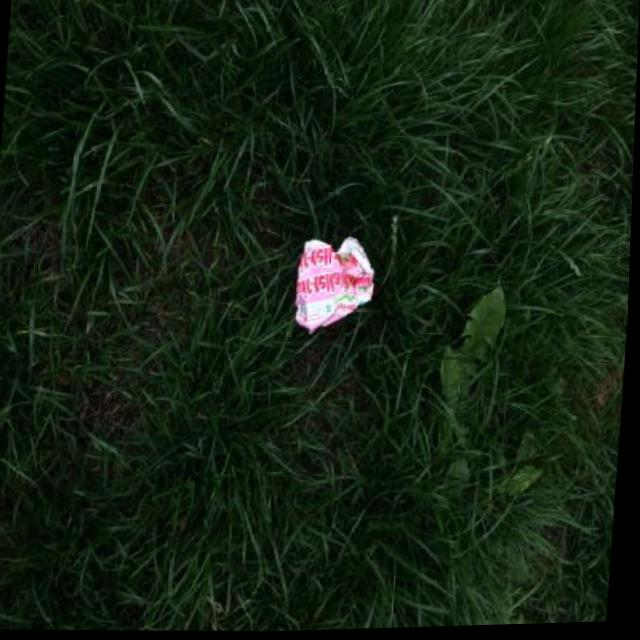other: (291, 235, 377, 335)
